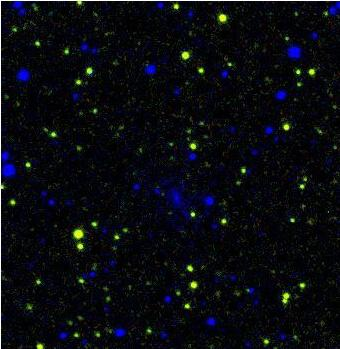star: (178, 200, 208, 230)
